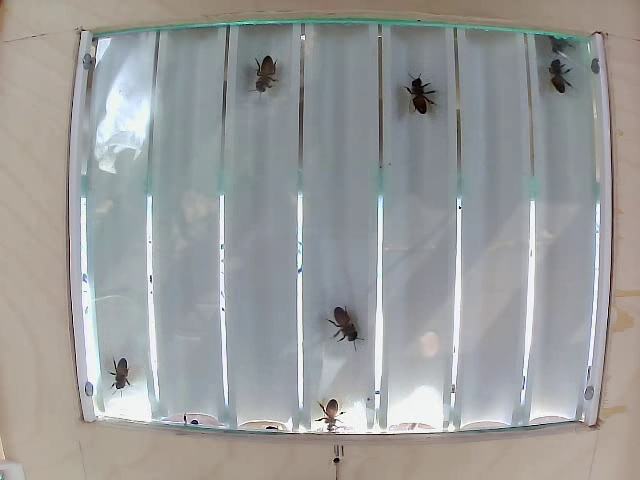bee: (322, 297, 361, 344), (100, 356, 148, 394), (315, 394, 355, 438), (405, 72, 433, 127), (544, 55, 577, 100), (248, 59, 284, 91)
